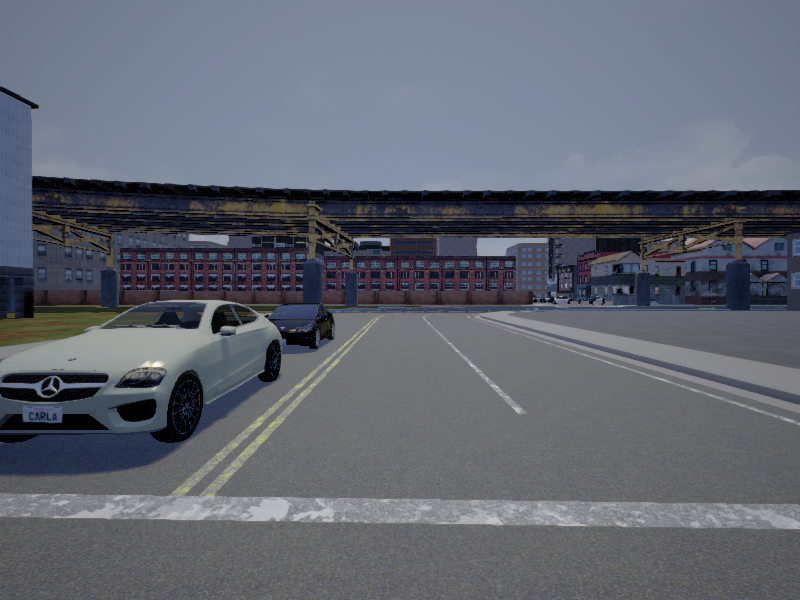Benign: (1, 301, 282, 442), (268, 303, 333, 347)
